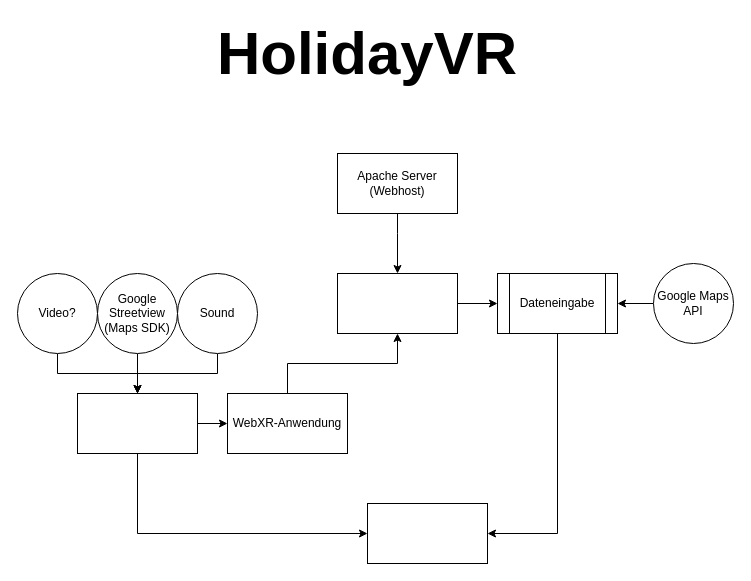
Image size: 751x581. Some labels were removed from this diagram. The centre of each missing label's shape, as x and y in pixels:
"Datenbank (SQL, Firebase)" belongs at point (427, 533).
"React-Web-App" belongs at point (397, 303).
"Unity" belongs at point (137, 423).
